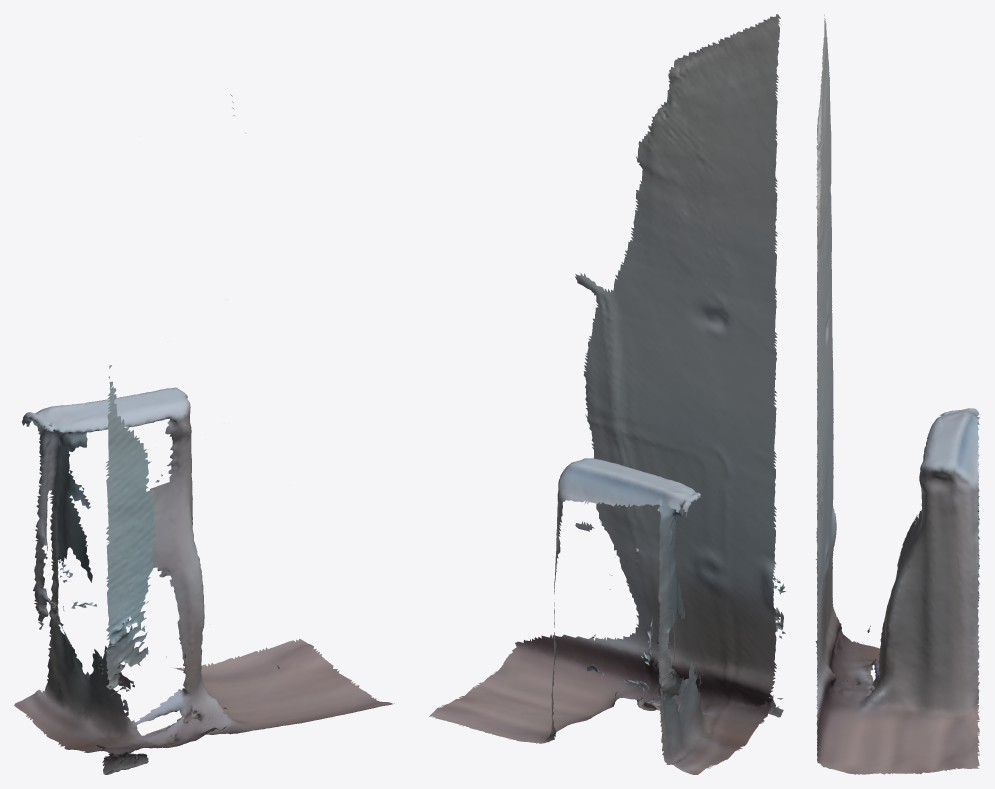
The model's file is apartment-full-27-ec537c2b5841.glb.
The picture shows the model from 3 angles, left to right: view 1: azimuth 30°, elevation 25°; view 2: azimuth 150°, elevation 25°; view 3: azimuth 270°, elevation 25°; orthographic projection. The views are drawn at different scales.
Bounding box in the file's own units: 0.779 × 1.95 × 0.455.
